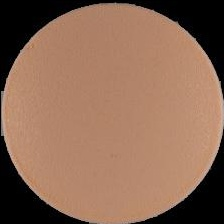58118-0078: (0, 0, 224, 224)
